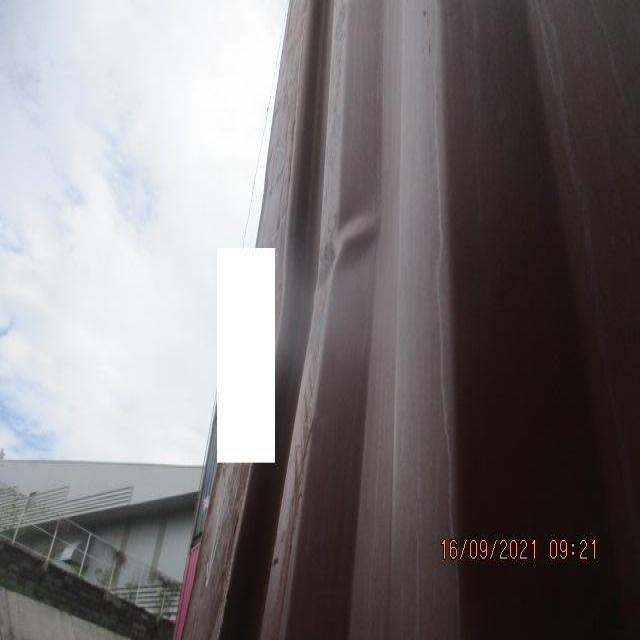dent: (288, 95, 408, 459)
